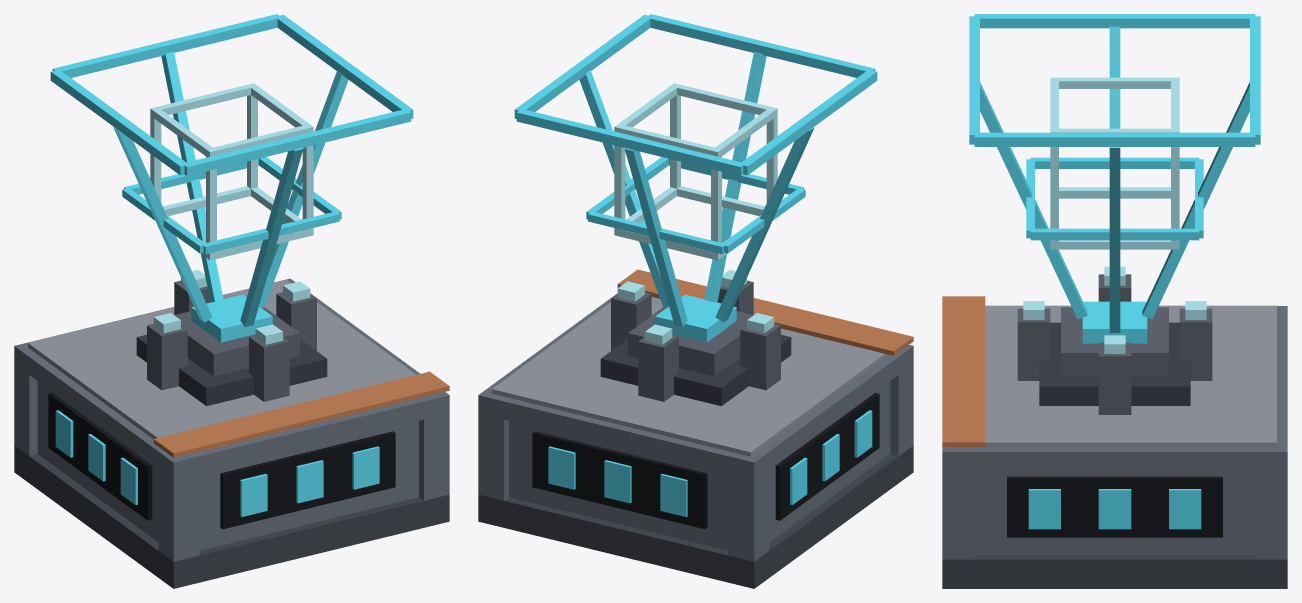
The model's file is projector.glb.
The picture shows the model from 3 angles, left to right: view 1: azimuth 30°, elevation 25°; view 2: azimuth 150°, elevation 25°; view 3: azimuth 270°, elevation 25°; orthographic projection. The views are drawn at different scales.
Parts seen in each view (by area): view 1: body.055, cone, holo, tier.030; view 2: body.055, cone, holo, tier.030; view 3: body.055, cone, holo, tier.030.
Boxes of the visible parts, left/top/right/bottom form: body.055: left=14, top=270, right=449, bottom=588; cone: left=50, top=14, right=413, bottom=326; holo: left=150, top=83, right=313, bottom=260; tier.030: left=153, top=371, right=449, bottom=457; body.055: left=478, top=270, right=913, bottom=588; cone: left=514, top=14, right=877, bottom=326; holo: left=614, top=83, right=777, bottom=260; tier.030: left=617, top=269, right=913, bottom=355; body.055: left=942, top=266, right=1287, bottom=588; cone: left=969, top=14, right=1260, bottom=332; holo: left=1050, top=77, right=1179, bottom=249; tier.030: left=942, top=296, right=985, bottom=446.
Bounding box in the file's own units: 1 × 1.41 × 1.
